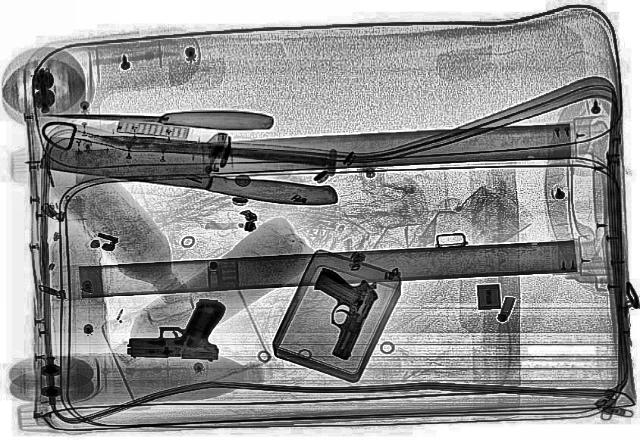Gun: (284, 266, 386, 360), (127, 298, 226, 360)
Knife: (40, 132, 346, 212), (82, 127, 326, 173), (42, 105, 272, 130)
